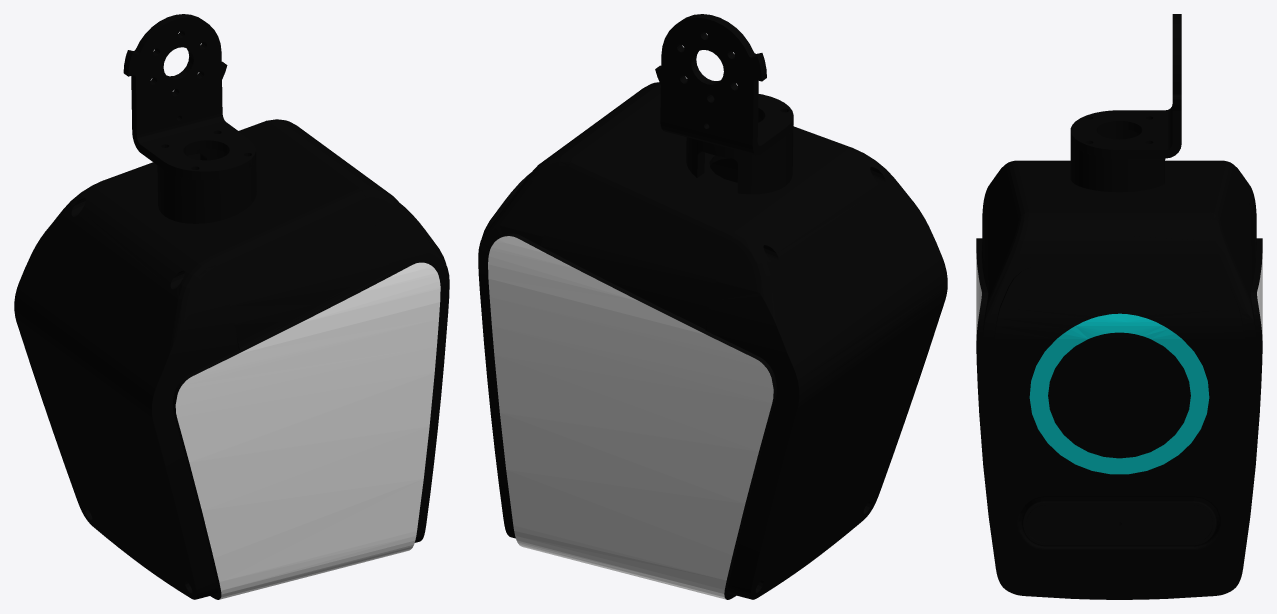
The model's file is head_pitch.obj.
3 views of the same model, side by side, from view 1: azimuth 30°, elevation 25°; view 2: azimuth 150°, elevation 25°; view 3: azimuth 270°, elevation 25° (orthographic). The views are drawn at different scales.
Visible parts, largest first — view 1: head_pitch_link; view 2: head_pitch_link; view 3: head_pitch_link.
Part boxes in pixels (x1,y1,x2,y2): head_pitch_link: (14,14,449,599); head_pitch_link: (478,14,947,599); head_pitch_link: (976,14,1262,599).
Size of the model in its own units: 0.1496 by 0.2455 by 0.1243.
